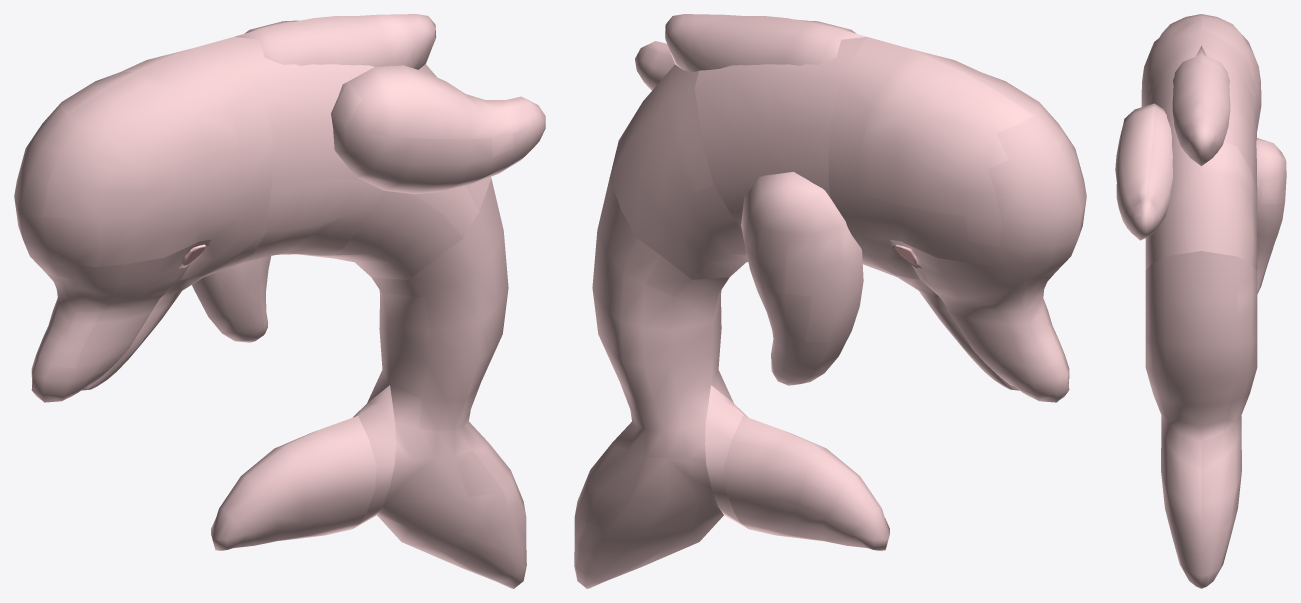
Rendered from modelo-02.glb.
The picture shows the model from 3 angles, left to right: view 1: azimuth 30°, elevation 25°; view 2: azimuth 150°, elevation 25°; view 3: azimuth 270°, elevation 25°; orthographic projection. The views are drawn at different scales.
Parts seen in each view (by area): view 1: 1 boto; view 2: 1 boto; view 3: 1 boto.
Boxes of the visible parts, left/top/right/bottom form: 1 boto: left=14, top=14, right=545, bottom=588; 1 boto: left=574, top=14, right=1086, bottom=588; 1 boto: left=1115, top=14, right=1286, bottom=588.
Size of the model in its own units: 4.17 by 4.88 by 1.69.
Materials: 1 (1 with a texture image).
